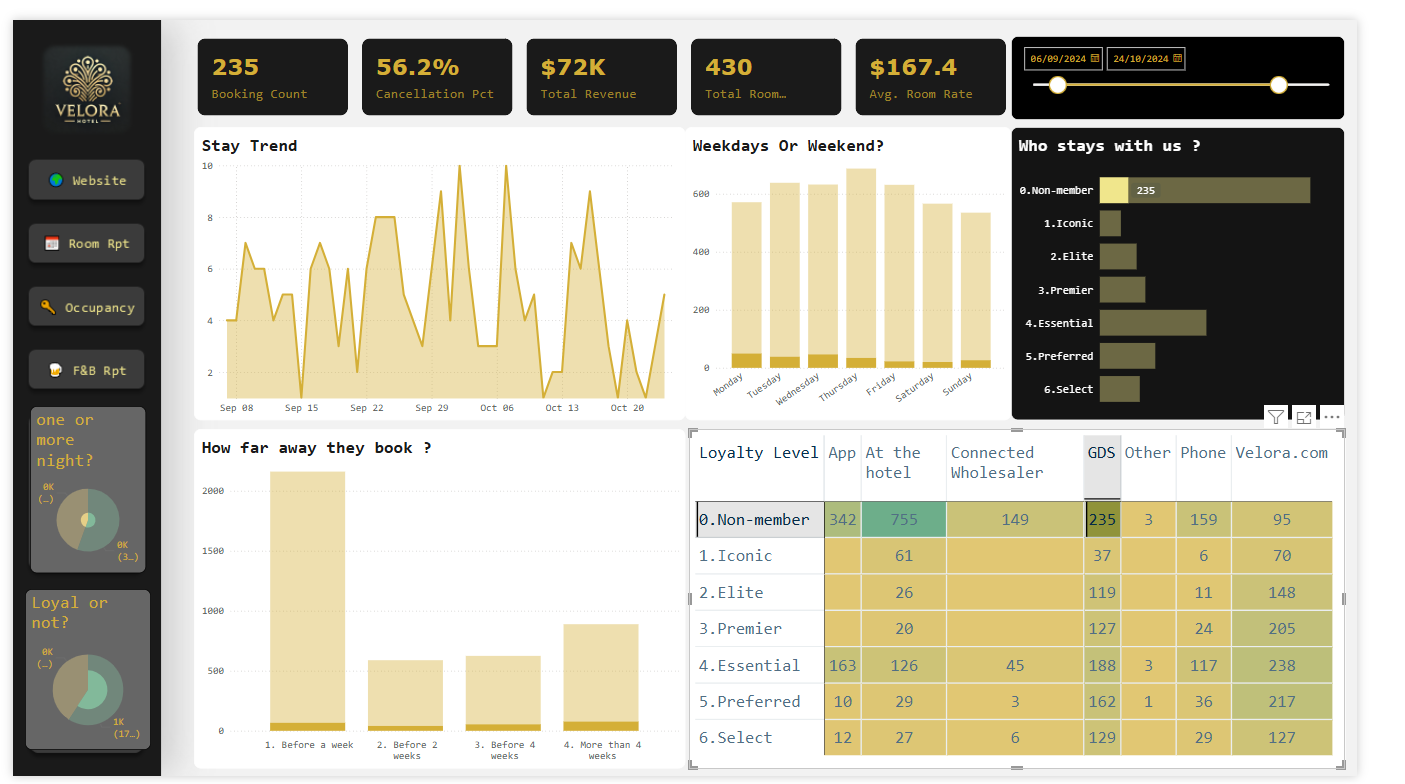

What the dashboard file says about the page in this screenshot:
{"tool":"powerbi","page":{"name":"Bookings Report BLANK","canvas":[1920,1080],"ordinal":0},"visuals":[{"type":"cardVisual","fields":{"Data":["bookings.Booking Count","bookings.Cancellation Pct","bookings.Total Revenue","bookings.Total Room Nights","bookings.Avg. Room Rate"]},"box":[258,22,1168,120],"z":0},{"type":"lineChart","title":"Stay Trend","fields":{"Category":["bookings.Stay Date"],"Y":["bookings.Booking Count"]},"box":[258,153,702.3,419],"z":1000},{"type":"slicer","fields":{"Values":["bookings.Stay Date"]},"box":[1425.8,22.6,477.5,119.7],"z":2000},{"type":"clusteredColumnChart","title":"Weekdays Or Weekend?","fields":{"Category":["bookings.Day Name"],"Y":["CountNonNull(bookings.Booking Date)"]},"box":[960.3,153,465.5,419],"z":3000},{"type":"clusteredBarChart","title":"Who stays with us ?","fields":{"Category":["bookings.Loyalty Level"],"Y":["bookings.Booking Count"]},"box":[1425.8,153,477.5,419],"z":4000},{"type":"clusteredColumnChart","title":"How far away they book ?","fields":{"Category":["bookings.How far away bucket"],"Y":["bookings.Booking Count"]},"box":[258,583.9,702.3,485.5],"z":5000},{"type":"pivotTable","fields":{"Rows":["bookings.Loyalty Level"],"Columns":["bookings.Booking Channel"],"Values":["bookings.Booking Count"]},"box":[965.6,583.9,937.7,485.5],"z":6000},{"type":"pieChart","title":"one or more night?","fields":{"Y":["bookings.Multi-night booking count","bookings.Single night booking count"]},"box":[23.9,552,166.3,239.4],"z":7000},{"type":"pieChart","title":"Loyal or not?","fields":{"Y":["bookings.Loyal Customer Booking Count","bookings.Not Loyal Customer Booking Count"]},"box":[17.3,816.7,179.6,230.1],"z":8000}]}

Visuals, with their boxes in screenshot pixels (x1, y1, x2, y2):
cardVisual - bookings.Booking Count x bookings.Cancellation Pct: x1=204 y1=30 x2=1009 y2=113
"Stay Trend" lineChart: x1=204 y1=120 x2=688 y2=409
slicer - bookings.Stay Date: x1=1009 y1=30 x2=1338 y2=113
"Weekdays Or Weekend?" clusteredColumnChart: x1=688 y1=120 x2=1009 y2=409
"Who stays with us ?" clusteredBarChart: x1=1009 y1=120 x2=1338 y2=409
"How far away they book ?" clusteredColumnChart: x1=204 y1=417 x2=688 y2=752
pivotTable - bookings.Loyalty Level x bookings.Booking Channel: x1=692 y1=417 x2=1338 y2=752
"one or more night?" pieChart: x1=42 y1=395 x2=157 y2=560
"Loyal or not?" pieChart: x1=38 y1=578 x2=161 y2=737
